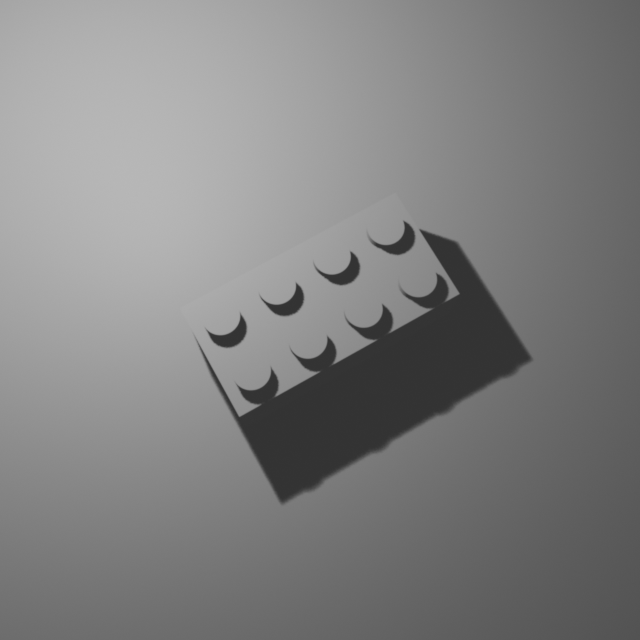lego_2x4: (178, 188, 462, 427)
